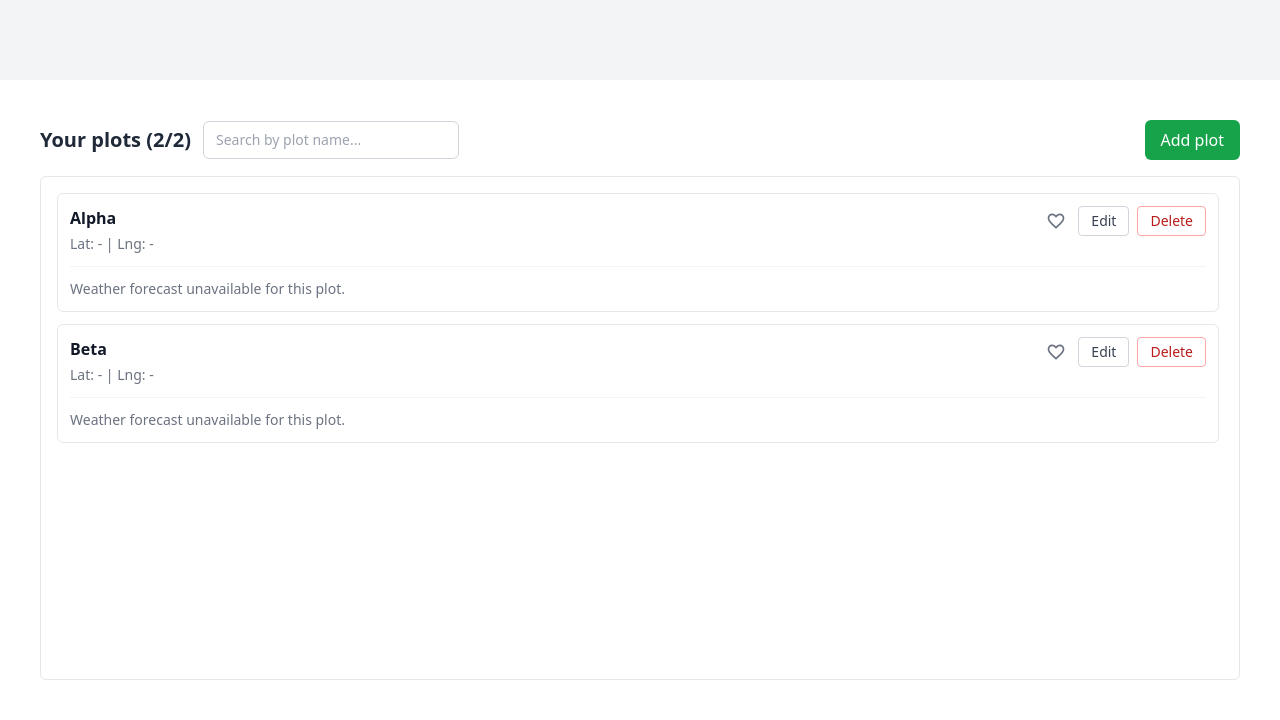
HomePage › filters plots by name from the search bar
Expected: the text "Alpha" is shown, [70,207,116,229]
Expected: the text "Beta" is shown, [70,338,107,360]
Type "be" into the search field named "search plots by name" at (331, 140), box [203,121,459,159]
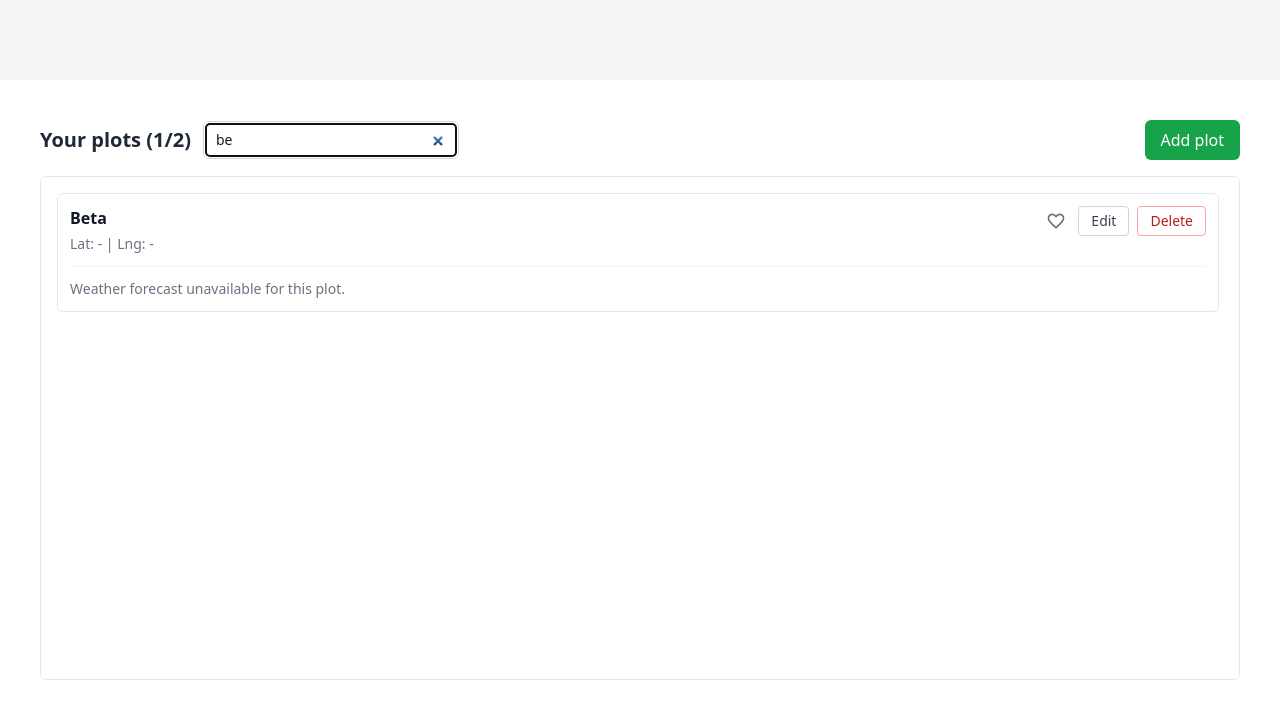
Expected: the text "Beta" is shown, [70,207,107,229]
Expected: the text "Alpha" is gone
